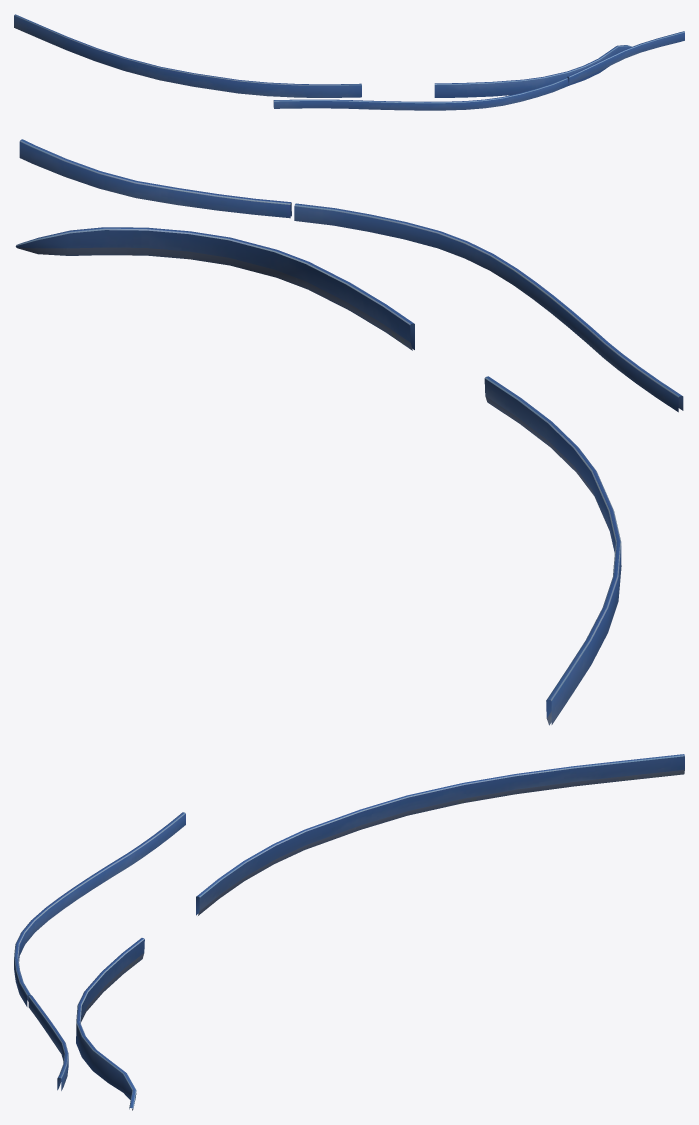
File: pref_sm_beach_winter_pointmol_glass03_lv1.fbx
The picture shows the model from 3 angles, top to bottom: view 1: azimuth 30°, elevation 25°; view 2: azimuth 150°, elevation 25°; view 3: azimuth 270°, elevation 25°; orthographic projection. The views are drawn at different scales.
Parts seen in each view (by area): view 1: pref_sm_beach_winter_pointmol_glass03_lv1; view 2: pref_sm_beach_winter_pointmol_glass03_lv1; view 3: pref_sm_beach_winter_pointmol_glass03_lv1.
Boxes of the visible parts, x1=… form: pref_sm_beach_winter_pointmol_glass03_lv1: x1=14, y1=14, x2=684, y2=110; pref_sm_beach_winter_pointmol_glass03_lv1: x1=15, y1=139, x2=683, y2=725; pref_sm_beach_winter_pointmol_glass03_lv1: x1=14, y1=754, x2=684, y2=1110.
Bounding box in the file's own units: 49.02 × 3.19 × 39.5.
